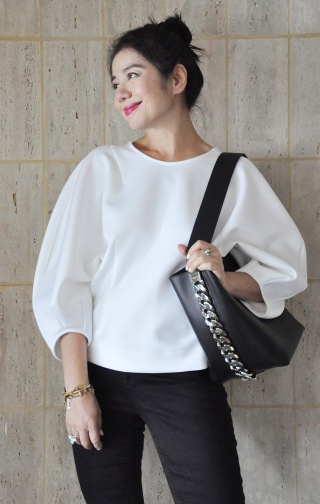female: (91, 12, 212, 152)
